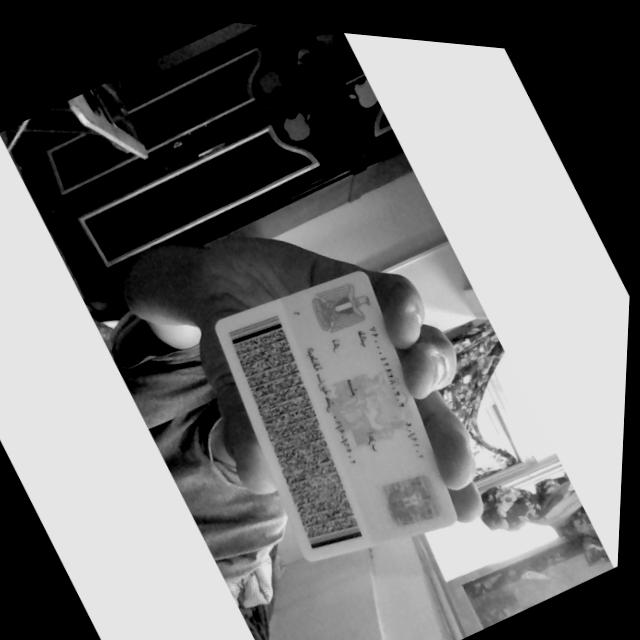id_card: (216, 273, 456, 561)
